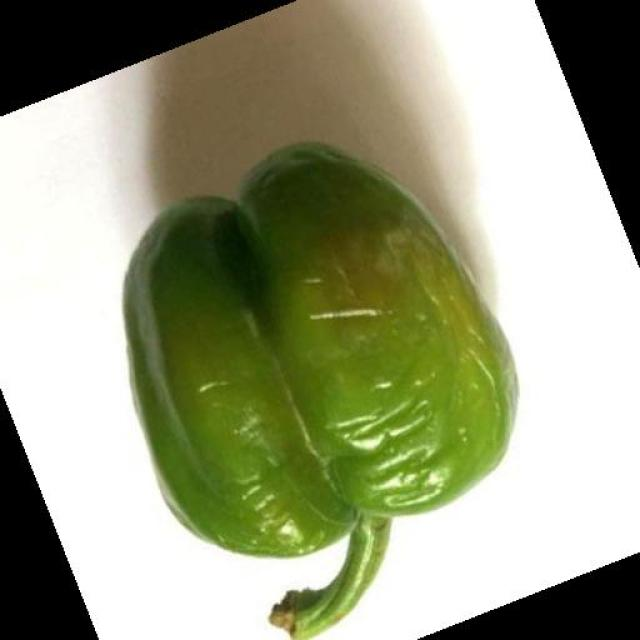Stale_Capsicum: (81, 230, 519, 510), (527, 219, 529, 231)
